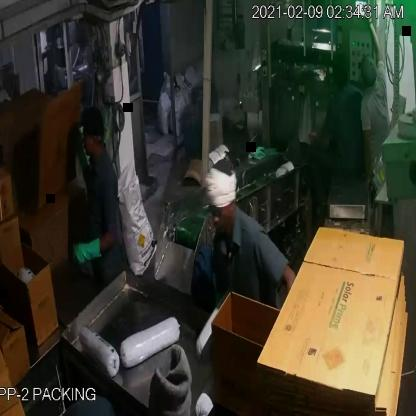glove: (66, 231, 104, 273)
no_glove: (304, 117, 337, 153)
